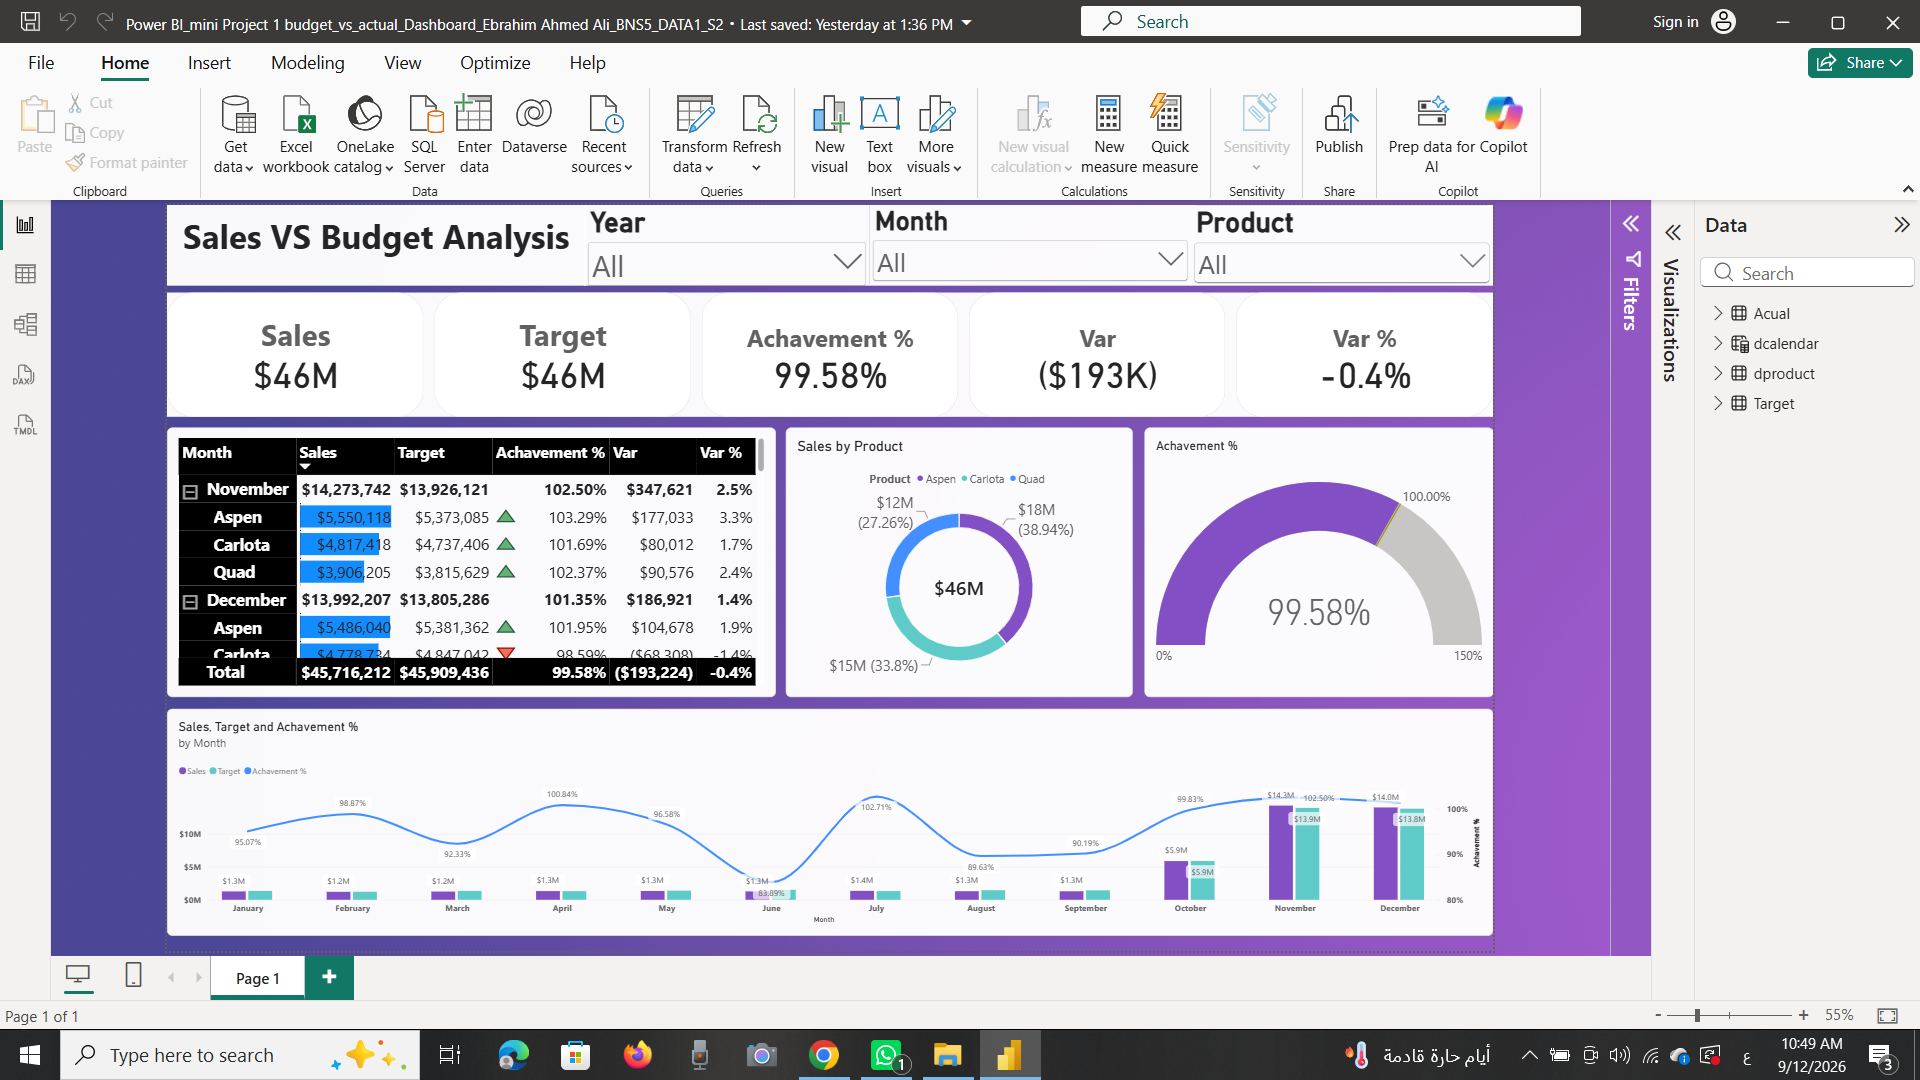

This screenshot's page, from the dashboard's own definition file:
{"tool":"powerbi","page":{"name":"Page 1","canvas":[1920,1080],"ordinal":0},"visuals":[{"type":"cardVisual","fields":{"Data":["dproduct.Sales","dproduct.Target","dproduct.Achavement %","dproduct.Var","dproduct.Var %"]},"box":[0,126.9,1920.2,180.3],"z":0},{"type":"pivotTable","fields":{"Rows":["dcalendar.Date.Variation.Date Hierarchy.Month","dproduct.Product"],"Values":["dproduct.Sales","dproduct.Target","dproduct.Achavement %","dproduct.Var","dproduct.Var %"]},"box":[0,322.3,881.6,390.7],"z":1000},{"type":"lineClusteredColumnComboChart","fields":{"Category":["dcalendar.Date.Variation.Date Hierarchy.Month"],"Y":["dproduct.Sales","dproduct.Target"],"Y2":["dproduct.Achavement %"]},"box":[0,728.6,1919.7,328.6],"z":2000},{"type":"donutChart","title":"Sales by Product","fields":{"Category":["dproduct.Product"],"Y":["dproduct.Sales"]},"box":[895,322.3,502.6,390.7],"z":3000},{"type":"gauge","fields":{"Y":["dproduct.Achavement %"]},"box":[1414.3,322.3,505.9,390.7],"z":4000},{"type":"slicer","fields":{"Values":["dproduct.Product"]},"box":[1482.8,0,437.5,116.9],"z":5000},{"type":"slicer","fields":{"Values":["dcalendar.Date.Variation.Date Hierarchy.Month"]},"box":[1016.9,0,465.9,116.9],"z":6000},{"type":"slicer","fields":{"Values":["dcalendar.Date.Variation.Date Hierarchy.Year"]},"box":[604.5,0,412.4,116.9],"z":7000},{"type":"textbox","box":[0,0,606.1,116.9],"z":9000}]}

Visuals, with their boxes on the page's 1920x1080 design canvas (x1, y1, x2, y2). These are canvas units, not pixel positions in the 1920x1080 screenshot, which may show the page scaled, cropped or inside an application window:
cardVisual - dproduct.Sales x dproduct.Target: bbox(0, 127, 1920, 307)
pivotTable - dcalendar.Date.Variation.Date Hierarchy.Month x dproduct.Product: bbox(0, 322, 882, 713)
lineClusteredColumnComboChart - dcalendar.Date.Variation.Date Hierarchy.Month x dproduct.Sales: bbox(0, 729, 1920, 1057)
"Sales by Product" donutChart: bbox(895, 322, 1398, 713)
gauge - dproduct.Achavement %: bbox(1414, 322, 1920, 713)
slicer - dproduct.Product: bbox(1483, 0, 1920, 117)
slicer - dcalendar.Date.Variation.Date Hierarchy.Month: bbox(1017, 0, 1483, 117)
slicer - dcalendar.Date.Variation.Date Hierarchy.Year: bbox(604, 0, 1017, 117)
textbox: bbox(0, 0, 606, 117)
